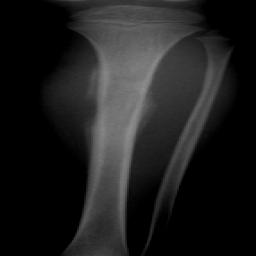cancer: (77, 62, 159, 159)
